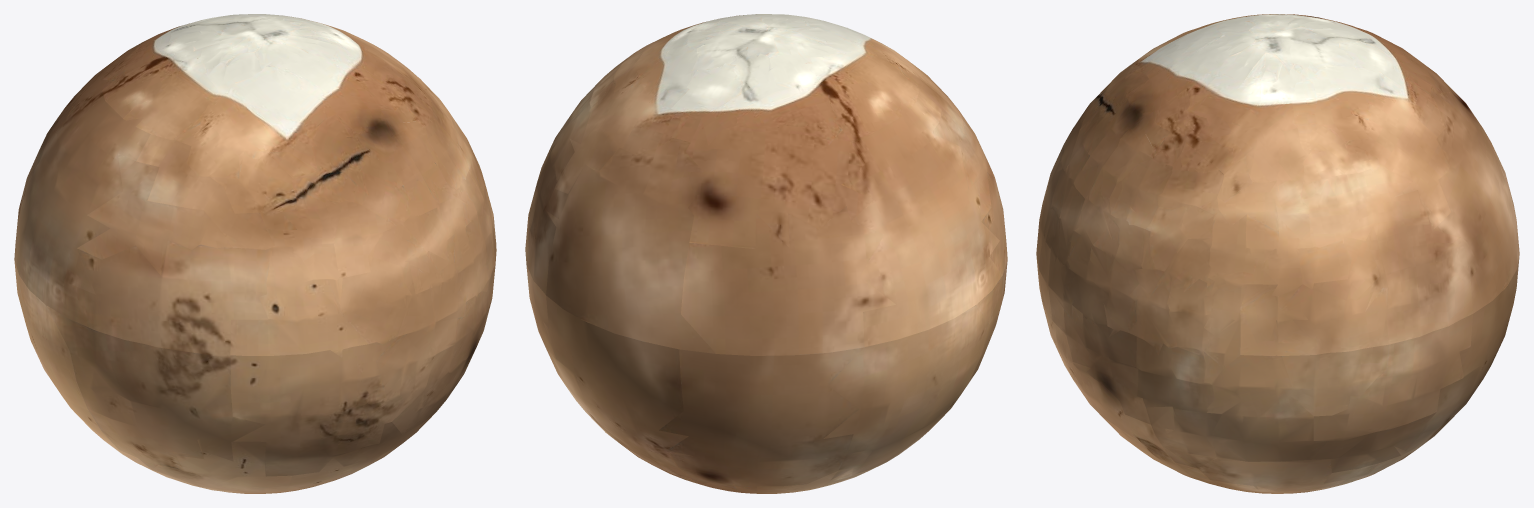
The model's file is solar-pluto.glb.
The picture shows the model from 3 angles, left to right: view 1: azimuth 30°, elevation 25°; view 2: azimuth 150°, elevation 25°; view 3: azimuth 270°, elevation 25°; orthographic projection.
Bounding box in the file's own units: 1.9 × 1.9 × 1.9.
1 material, 1 textured.
